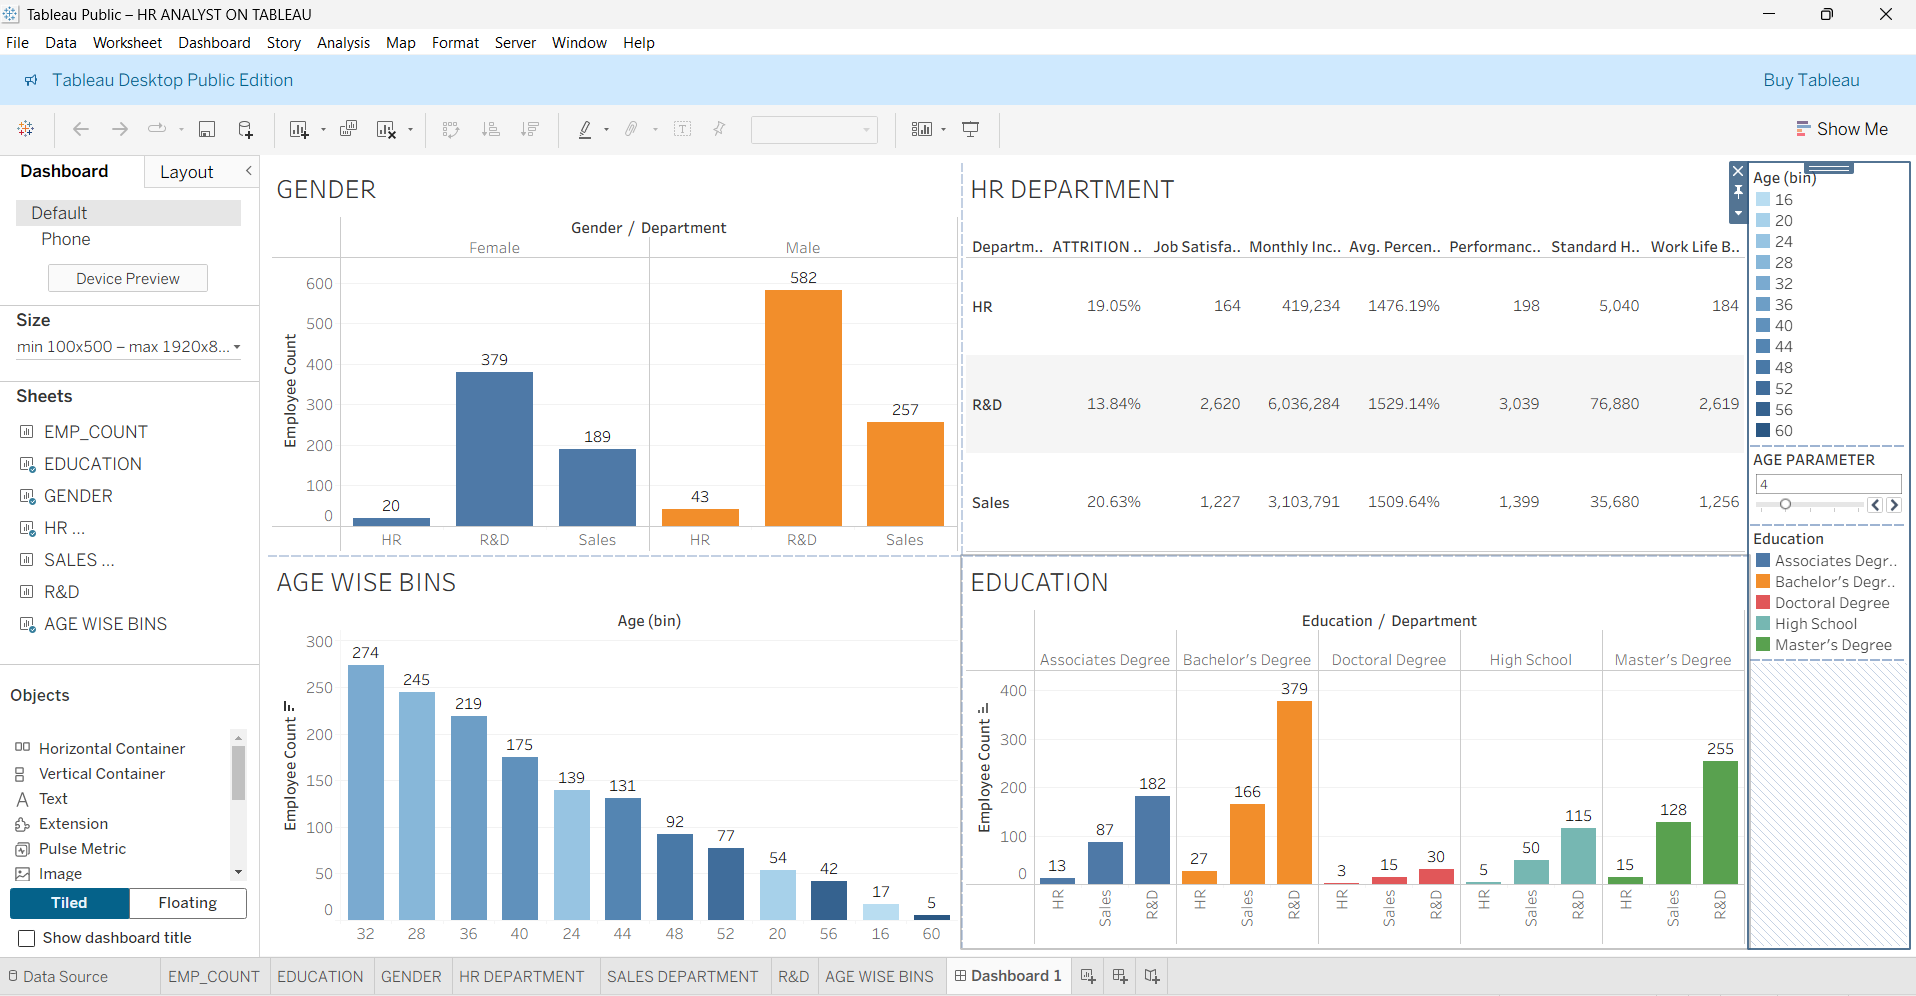

This screenshot's page, from the dashboard's own definition file:
{"tool":"tableau","page":{"name":"Dashboard 1","canvas":[1000,1000],"units":"permille","ordinal":0},"visuals":[{"type":"worksheet","title":"GENDER","mark":"Automatic","rows":["Employee Count"],"cols":["Gender","Department"],"box":[4.8,10,418.8,490]},{"type":"worksheet","title":"HR DEPARTMENT ","mark":"Automatic","rows":["Department"],"box":[423.7,10,474.9,490]},{"type":"legend","title":"AGE WISE BINS","param":"[federated.0xrvq7d0pkf1uj125i9aj1o7ptoo].[none:Age (bin):ok]","box":[898.6,10,96.6,352.1]},{"type":"parameter","param":"[Parameters].[Parameter 1]","box":[898.6,362.1,96.6,98.6]},{"type":"legend","title":"EDUCATION","param":"[federated.0xrvq7d0pkf1uj125i9aj1o7ptoo].[none:Education:nk]","box":[898.6,460.7,96.6,168.5]},{"type":"worksheet","title":"AGE WISE BINS","mark":"Automatic","rows":["Employee Count"],"cols":["Age (bin)"],"box":[4.8,500,418.8,490]},{"type":"worksheet","title":"EDUCATION","mark":"Automatic","rows":["Employee Count"],"cols":["Education","Department"],"box":[423.7,500,474.9,490]}]}

Visuals, with their boxes on the dashboard's canvas, which has no fixed pixel size, in thousandths of its width and height (x1, y1, x2, y2). These are canvas units, not pixel positions in the 1916x996 screenshot, which may show the page scaled, cropped or inside an application window:
"GENDER" worksheet: <box>5,10,424,500</box>
"HR DEPARTMENT " worksheet: <box>424,10,899,500</box>
"AGE WISE BINS" legend: <box>899,10,995,362</box>
parameter: <box>899,362,995,461</box>
"EDUCATION" legend: <box>899,461,995,629</box>
"AGE WISE BINS" worksheet: <box>5,500,424,990</box>
"EDUCATION" worksheet: <box>424,500,899,990</box>
